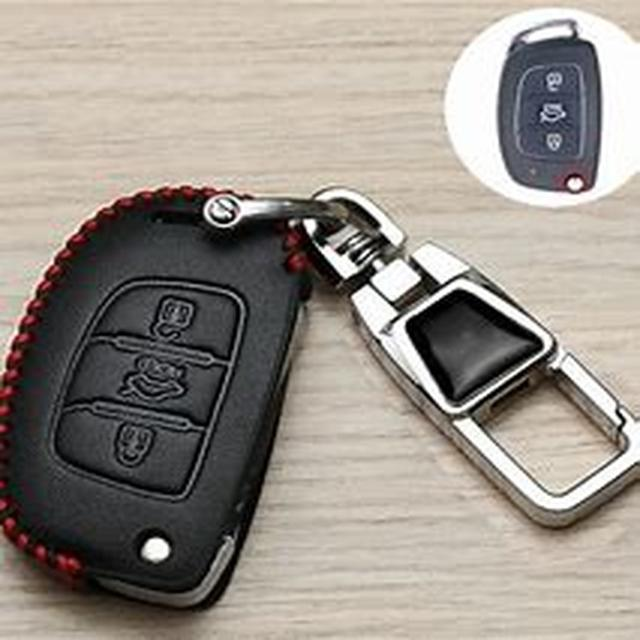key: (0, 161, 373, 639), (462, 20, 632, 228)
